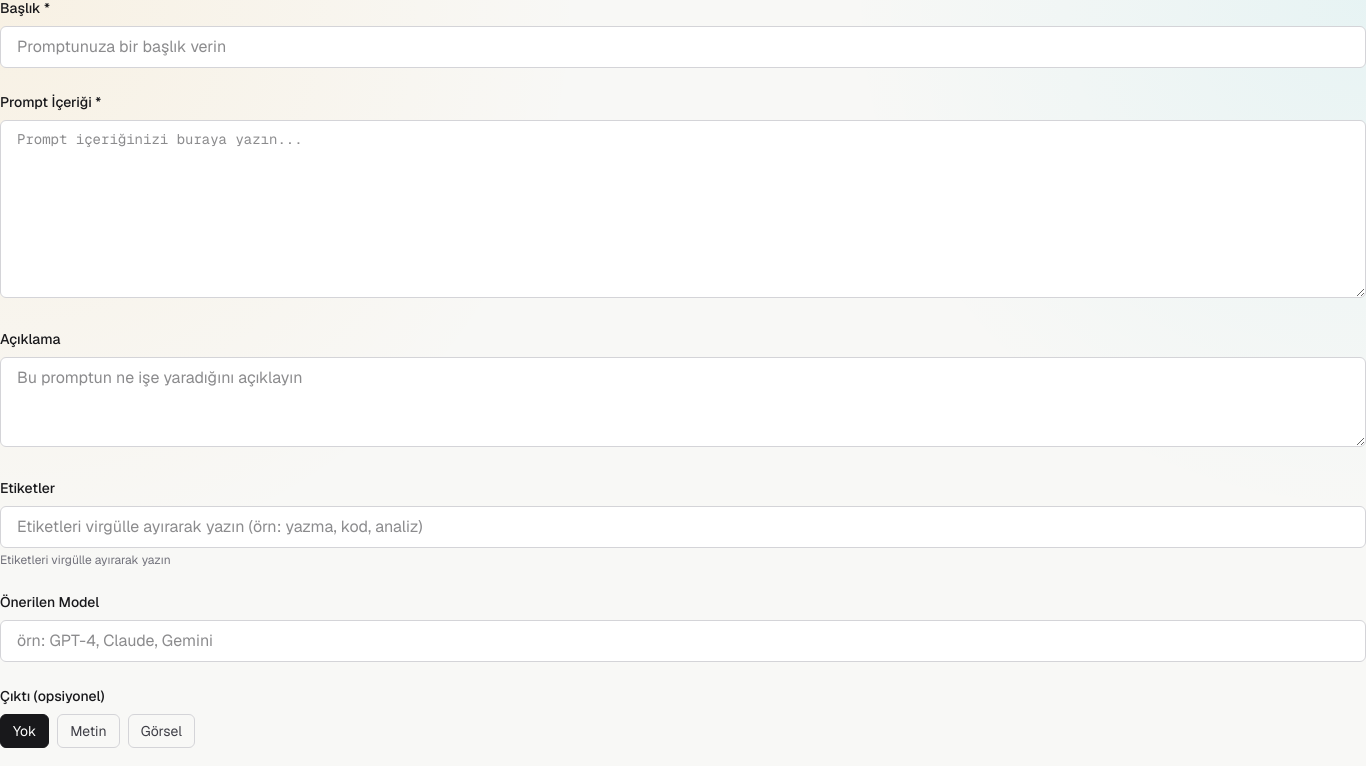
PromptForm › shows the fallback submit error for non-Error failures
Type "Hatalı Prompt" into the field labelled "Başlık *" at (683, 47), box left=0, top=26, right=1365, bottom=68
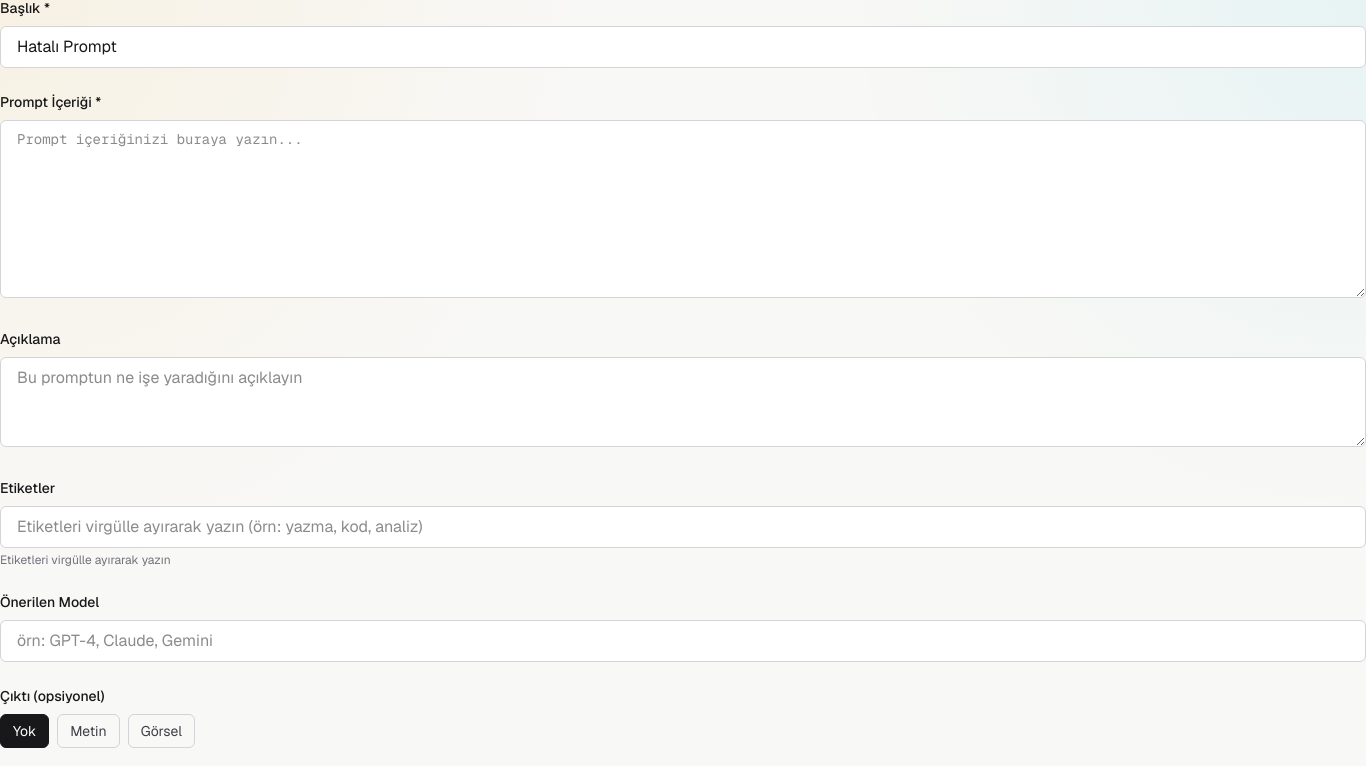
Type "Hatalı içerik" into the text box labelled "Prompt İçeriği *" at (683, 209), box left=0, top=120, right=1365, bottom=298
(page scrolled)
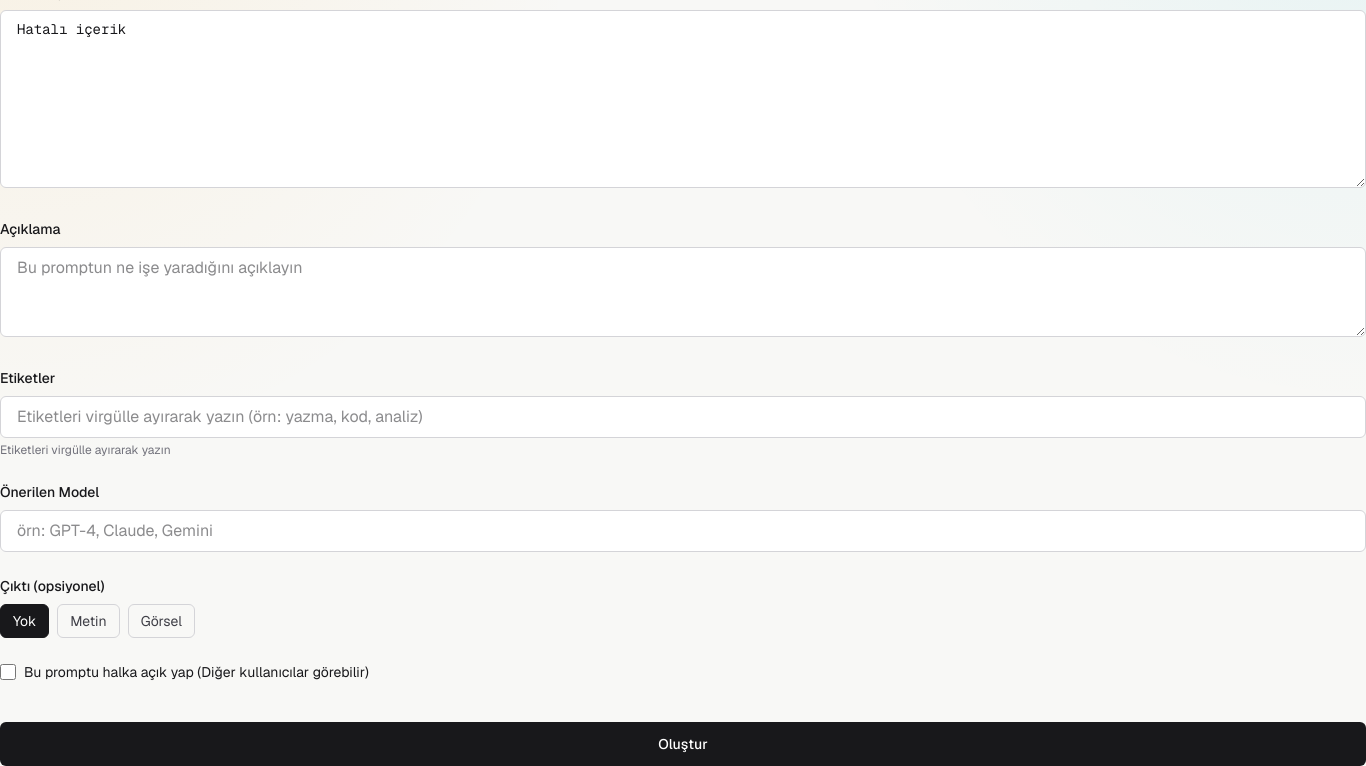
Click the button "Oluştur" at (683, 744), box left=0, top=722, right=1365, bottom=765
(page scrolled)
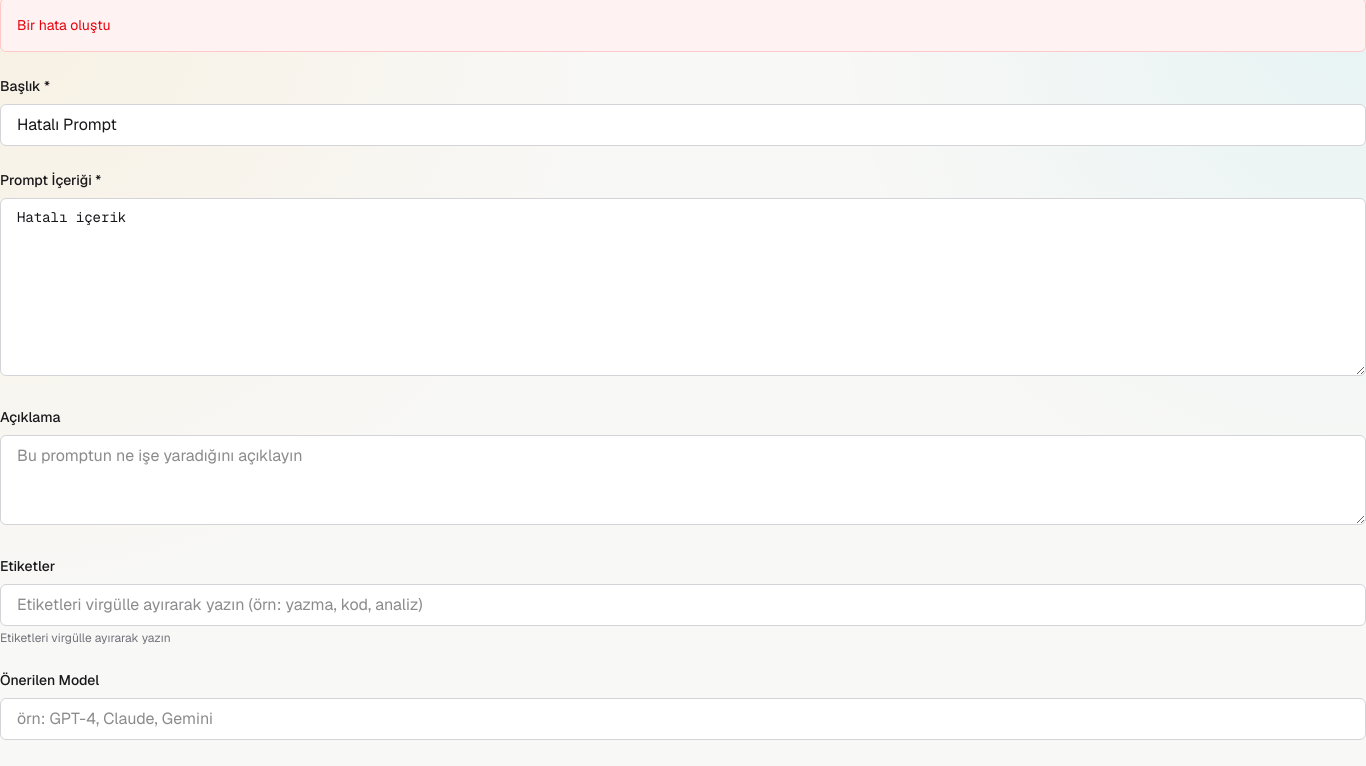
Expected: the text "Bir hata oluştu" is shown, left=17, top=16, right=111, bottom=34
